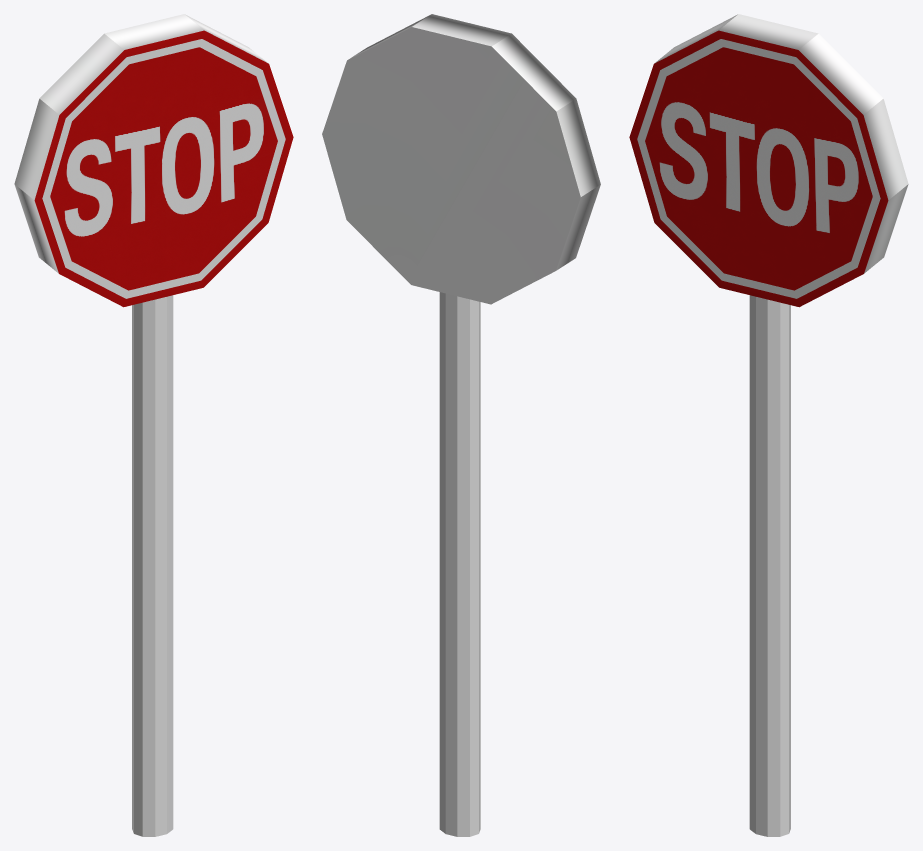
File: stop tabelası.fbx
The picture shows the model from 3 angles, left to right: view 1: azimuth 30°, elevation 25°; view 2: azimuth 150°, elevation 25°; view 3: azimuth 330°, elevation 25°; orthographic projection.
Parts seen in each view (by area): view 1: Icosphere.002; view 2: Icosphere.002; view 3: Icosphere.002.
Boxes of the visible parts, bbox=[...] form: Icosphere.002: bbox=[14, 14, 293, 836]; Icosphere.002: bbox=[322, 14, 600, 836]; Icosphere.002: bbox=[629, 14, 908, 836].
Bounding box in the file's own units: 131 × 387 × 18.32.
Materials: 1 (1 with a texture image).
